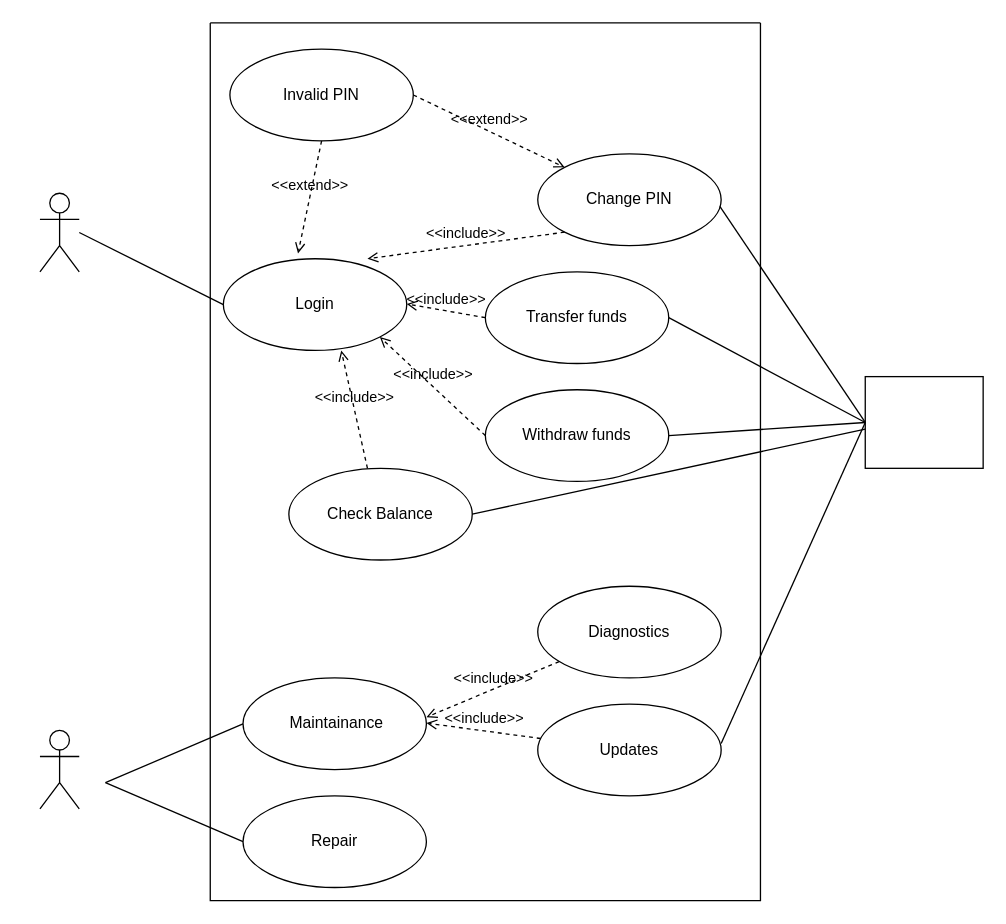
Image size: 1006x924. Some labels were removed from this diagram. The box of each missing label's shape, as (x1, y1, x2, y2) in pixels:
<<actor>> Banking Systems: (864, 375, 983, 468)
Customer: (39, 192, 79, 272)
Technician: (39, 729, 79, 809)
